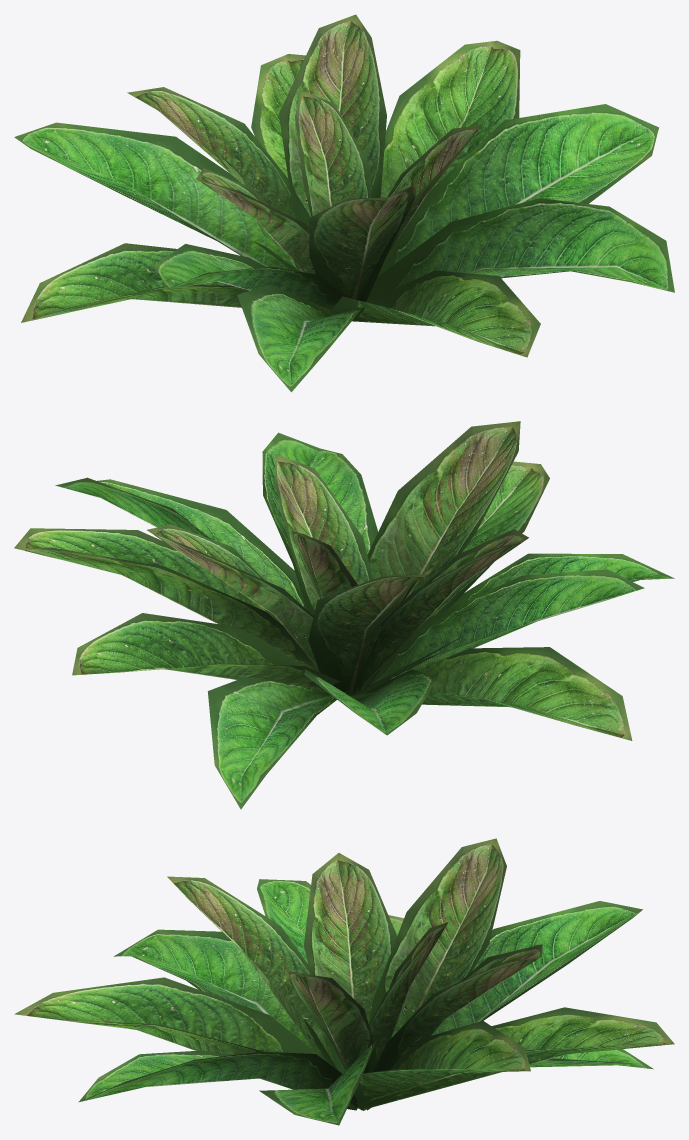
The model's file is Evening primrose_herbaceous.FBX.
3 renders of one model, top to bottom at view 1: azimuth 30°, elevation 25°; view 2: azimuth 150°, elevation 25°; view 3: azimuth 270°, elevation 25°, orthographic. The views are drawn at different scales.
Visible parts, largest first — view 1: Evening primrose_herbaceous; view 2: Evening primrose_herbaceous; view 3: Evening primrose_herbaceous.
Part boxes in pixels (x1,y1,x2,y2): Evening primrose_herbaceous: (14,14,674,392); Evening primrose_herbaceous: (14,421,674,809); Evening primrose_herbaceous: (14,838,674,1125).
Size of the model in its own units: 49.66 by 17.01 by 49.86.
